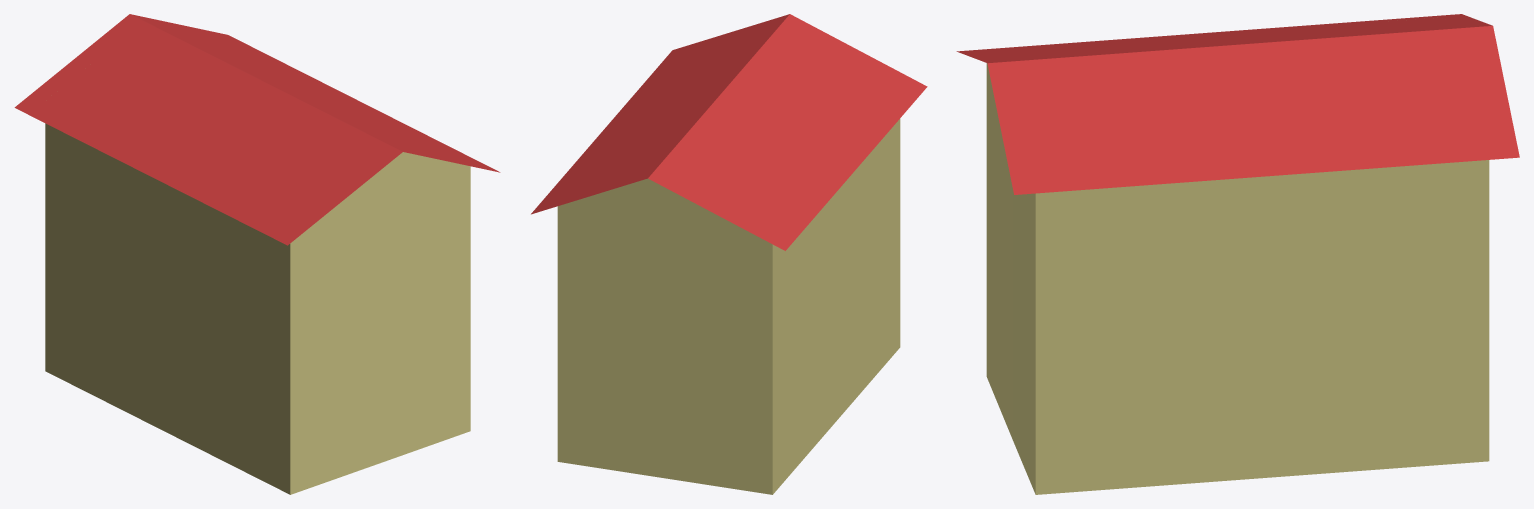
3 renders of one model, left to right at view 1: azimuth 30°, elevation 25°; view 2: azimuth 150°, elevation 25°; view 3: azimuth 270°, elevation 25°, orthographic. The views are drawn at different scales.
Size of the model in its own units: 11.89 by 15.96 by 11.88.
